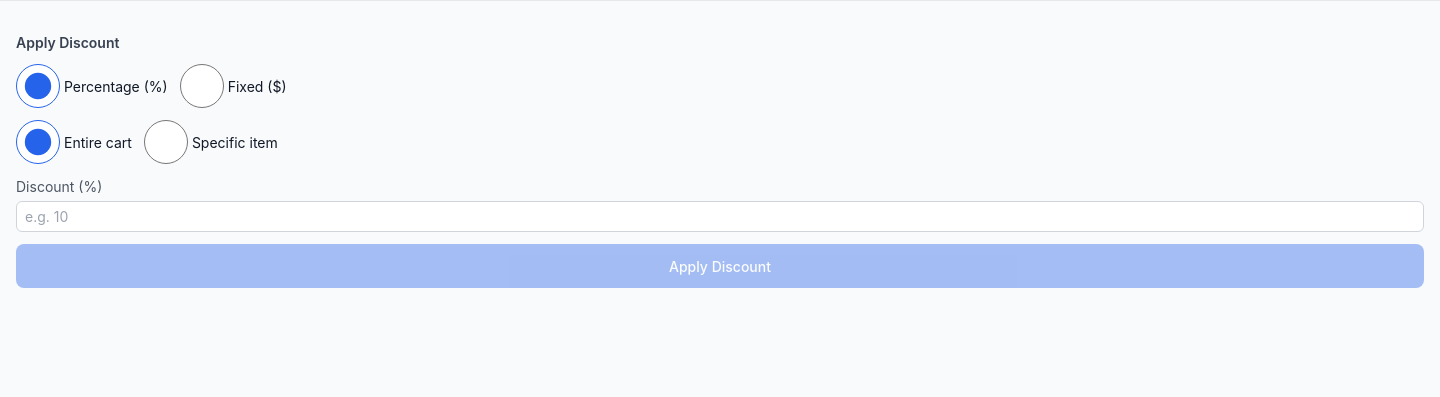
Test: ConnectedDiscountPanel – store integration › shows validation error when fixed discount exceeds cart total
Click the radio button showing "fixed" at (202, 86), box [180,64,224,108]
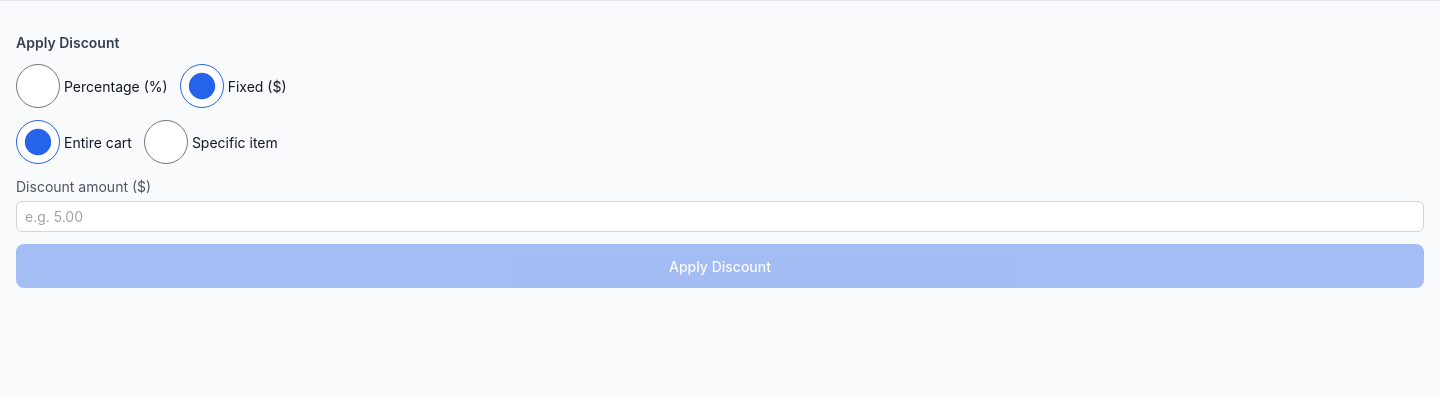
Type "100" into the number field named "discount amount in dollars" at (720, 217), box [16,201,1424,232]
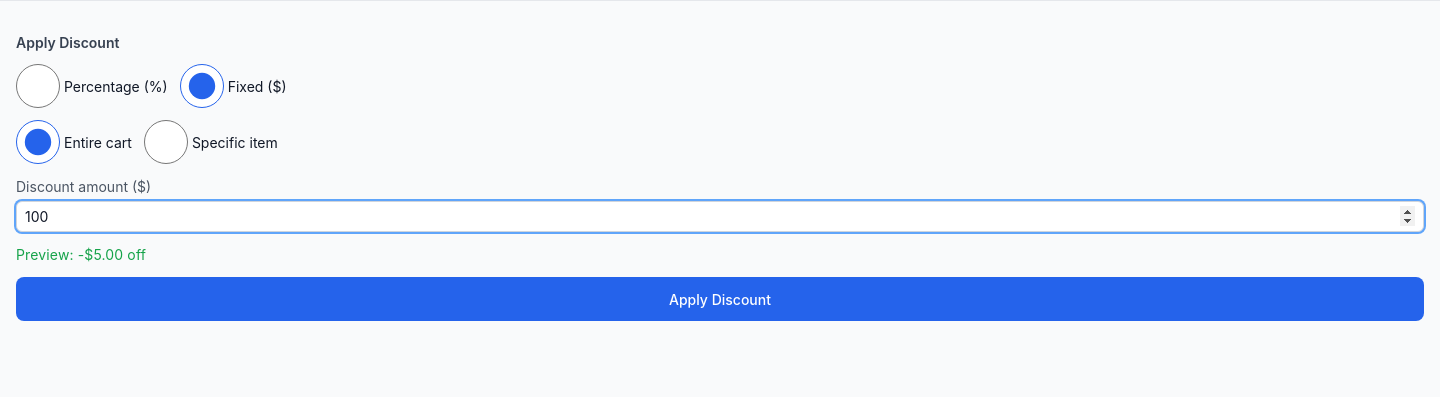
Click the button "Apply Discount" at (720, 299), box [16,277,1424,321]
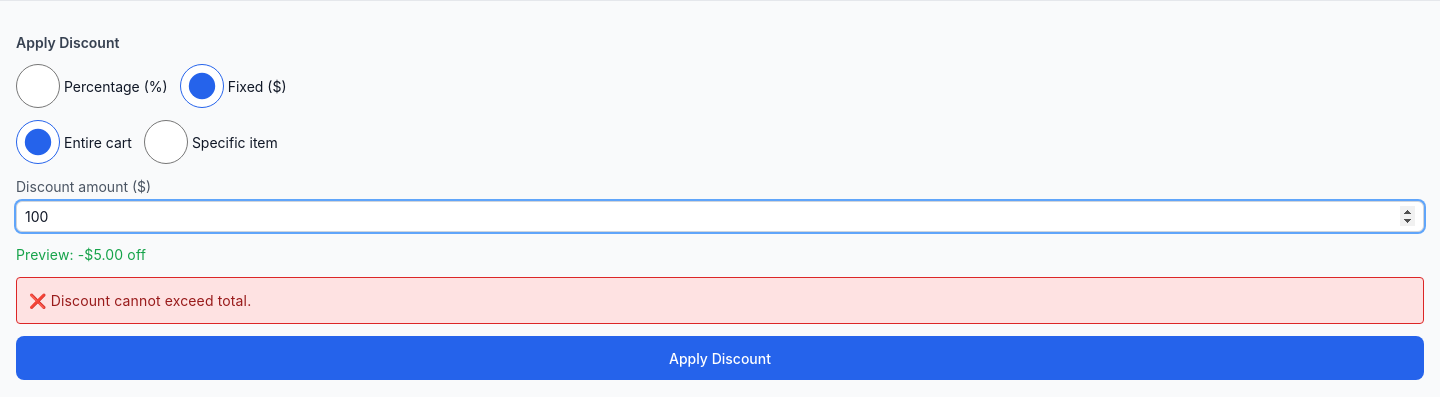
Expected: the message shows "Discount cannot exceed total", [51,292,251,309]
